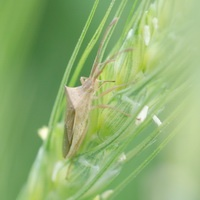insect: (63, 58, 115, 157)
